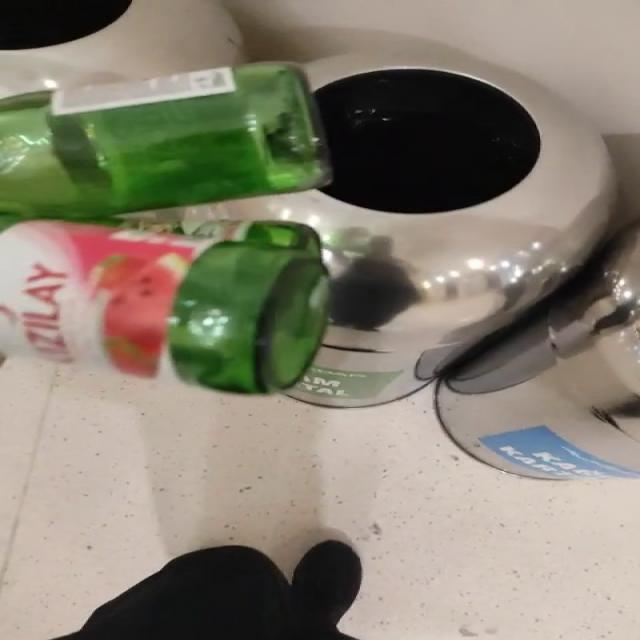bin: (151, 44, 615, 408), (3, 0, 241, 95)
glass: (0, 63, 329, 393)
